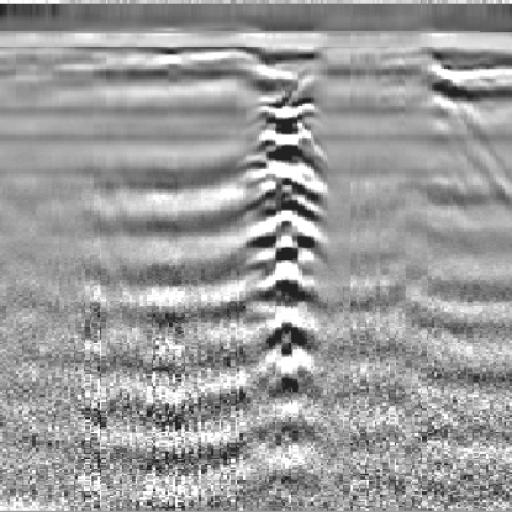metalic: (185, 59, 382, 454)
